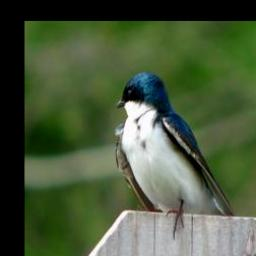Swallow: (113, 68, 237, 240)
